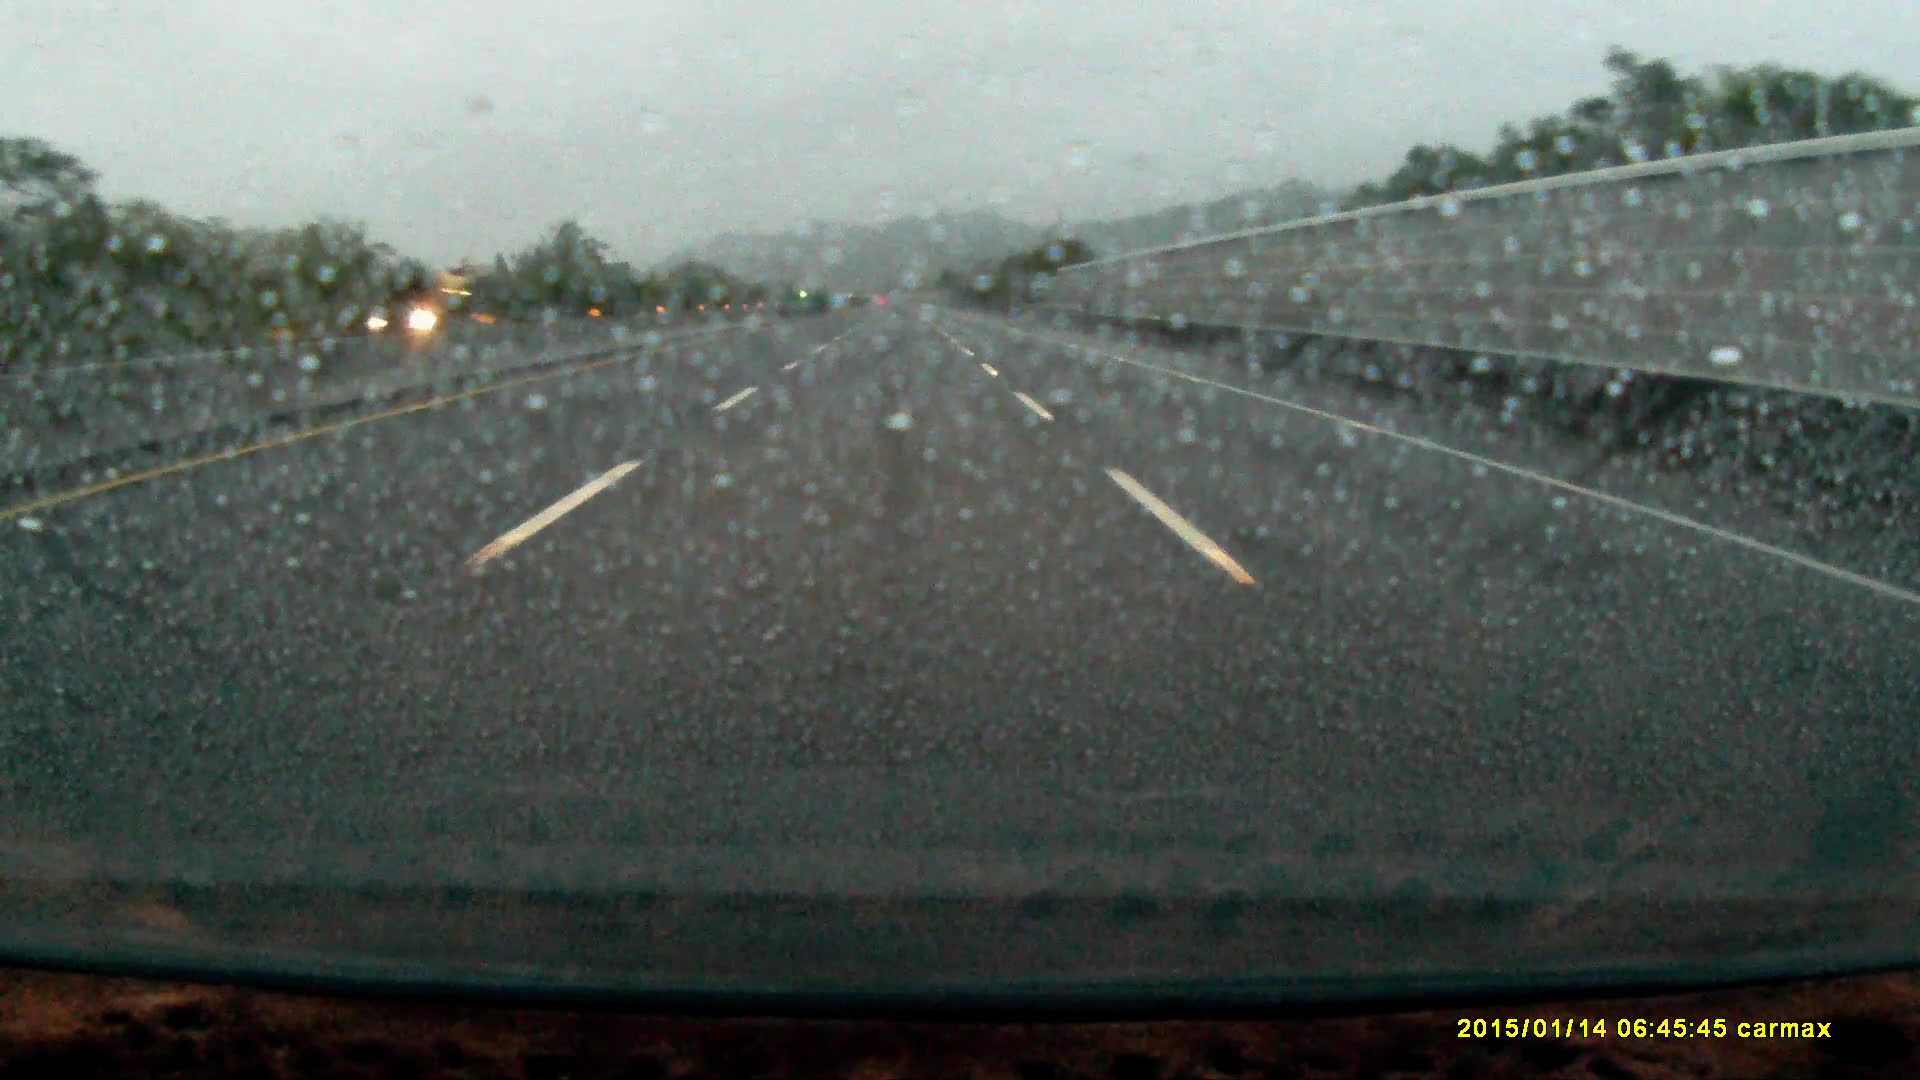vehicle: (385, 270, 489, 328)
